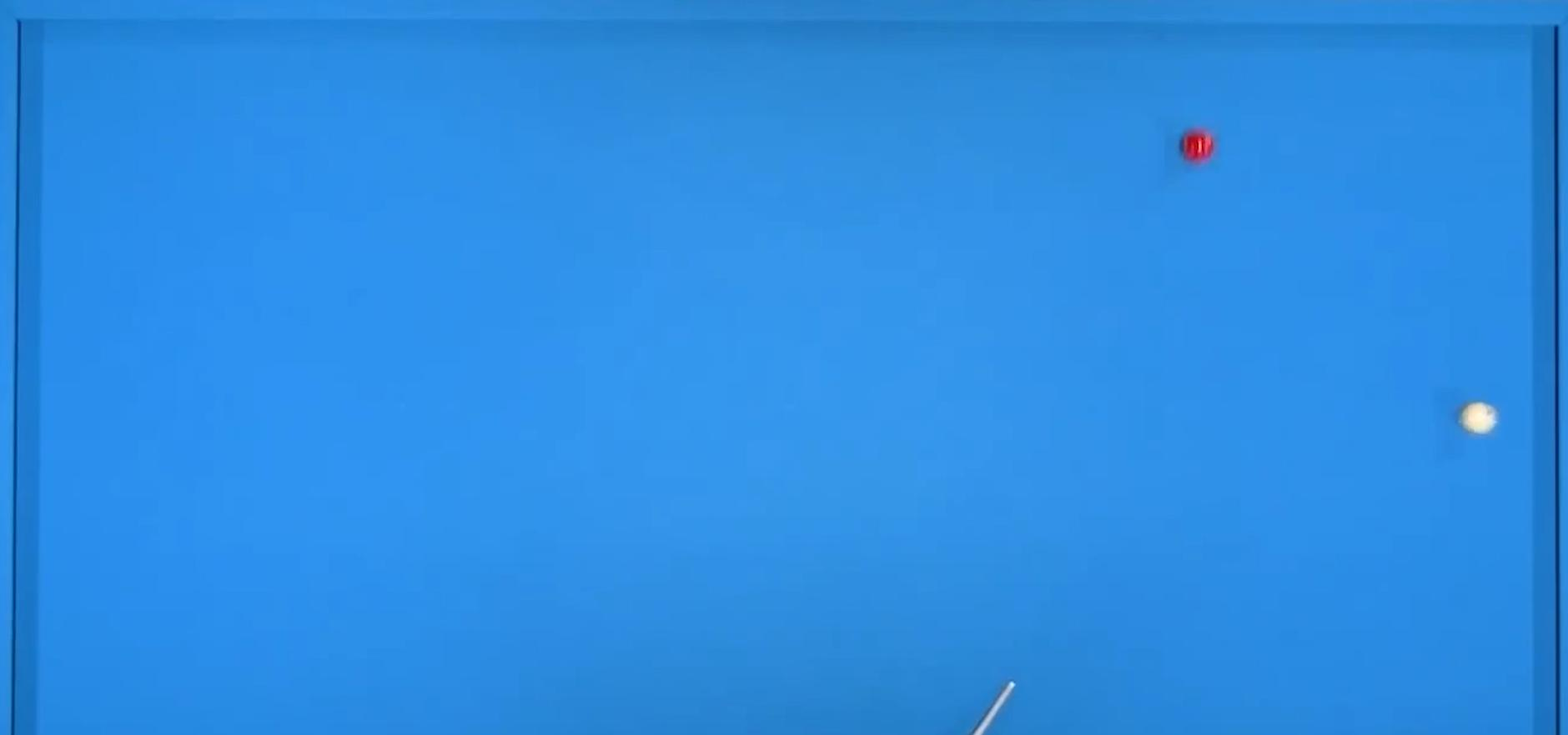red ball: (1177, 125, 1218, 170)
white ball: (1457, 398, 1501, 439)
